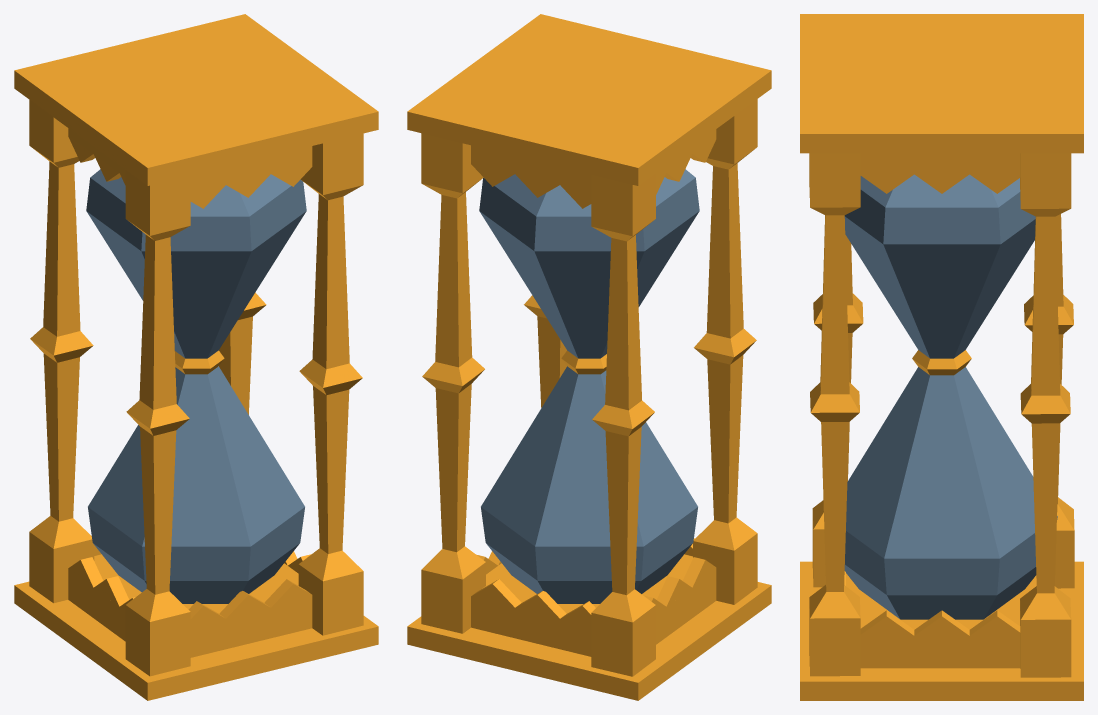
Rendered from SM_Hourglass_B.fbx.
3 views of the same model, side by side, from view 1: azimuth 30°, elevation 25°; view 2: azimuth 150°, elevation 25°; view 3: azimuth 270°, elevation 25° (orthographic). The views are drawn at different scales.
Parts seen in each view (by area): view 1: hourglass-b; view 2: hourglass-b; view 3: hourglass-b.
Part boxes in pixels (left/top/right/bottom): hourglass-b: left=14, top=14, right=378, bottom=700; hourglass-b: left=407, top=14, right=771, bottom=700; hourglass-b: left=800, top=14, right=1083, bottom=700.
Bounding box in the file's own units: 0.1093 × 0.241 × 0.1093.
